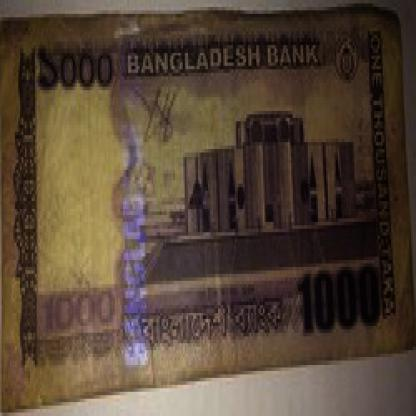One Thousand taka: (297, 267, 384, 329), (35, 45, 116, 97), (40, 295, 118, 332)
